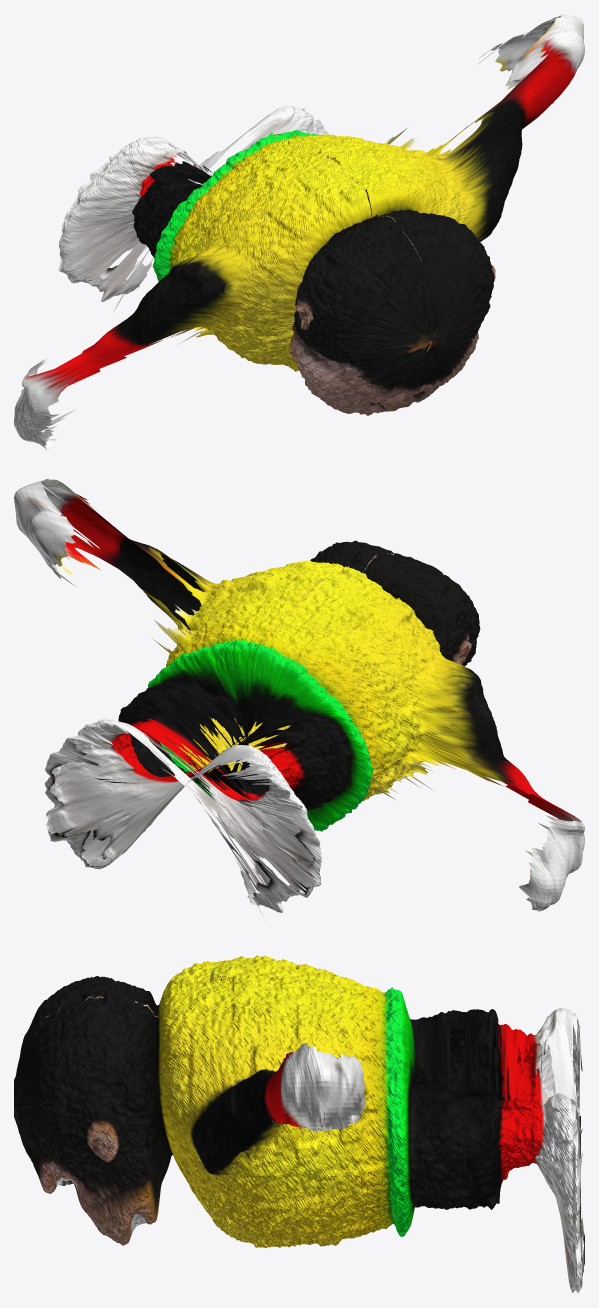
The picture shows the model from 3 angles, top to bottom: view 1: azimuth 30°, elevation 25°; view 2: azimuth 150°, elevation 25°; view 3: azimuth 270°, elevation 25°; orthographic projection. The views are drawn at different scales.
Visible parts, largest first — view 1: geometry_0; view 2: geometry_0; view 3: geometry_0.
Boxes of the visible parts, x1,y1,x2,y2 form: geometry_0: (14, 14, 584, 450); geometry_0: (14, 479, 584, 920); geometry_0: (14, 955, 584, 1293).
Size of the model in its own units: 1.74 by 0.9084 by 1.26.
Materials: 1 (1 with a texture image).
